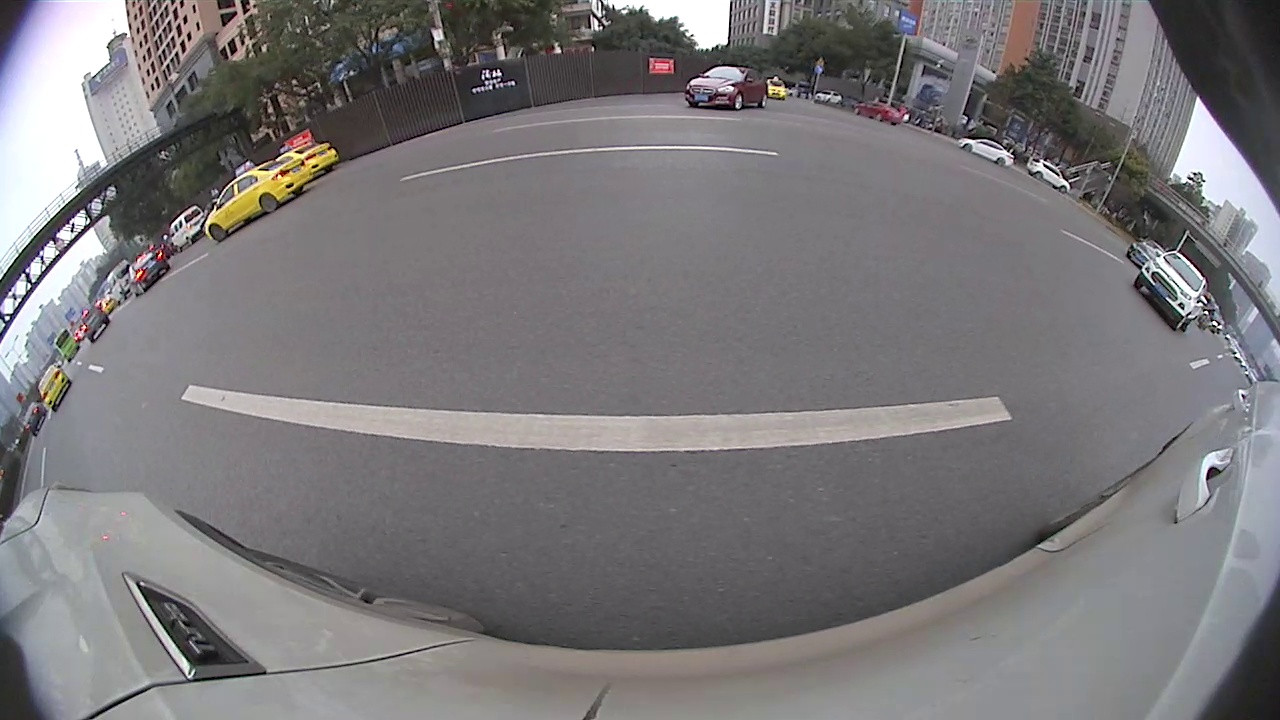car: (201, 158, 312, 242), (1133, 250, 1208, 334), (685, 65, 770, 111), (276, 142, 341, 178), (128, 249, 171, 298), (957, 137, 1017, 170), (36, 363, 72, 414), (1029, 159, 1073, 196), (854, 97, 906, 127), (1126, 239, 1165, 271)
front: (209, 224, 227, 241), (734, 94, 744, 110)
rear: (262, 192, 278, 212), (763, 96, 768, 110)
